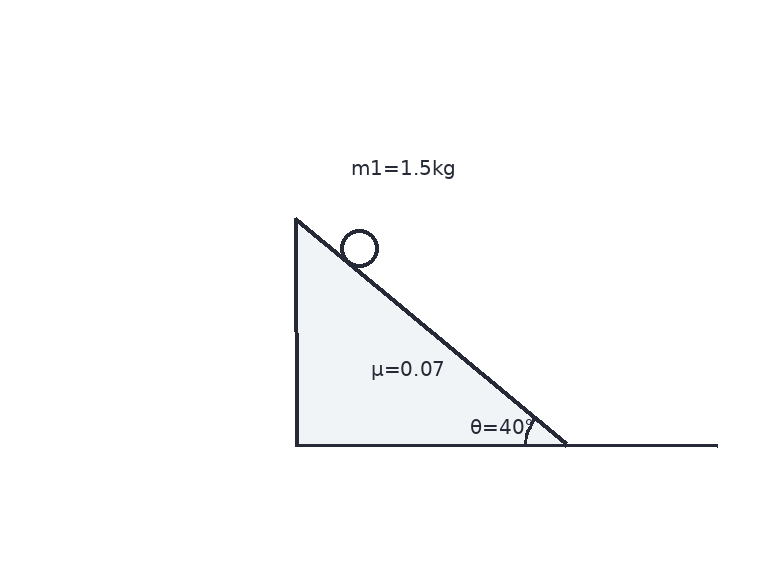ball: (338, 227, 380, 269)
ramp: (293, 217, 567, 447)
